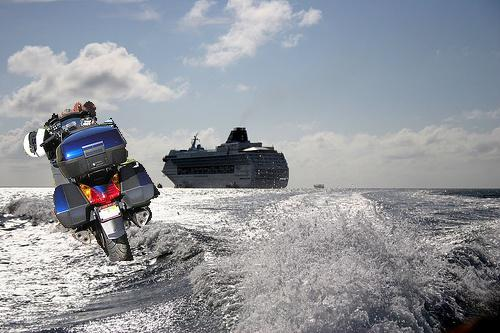tampered: (24, 102, 160, 261)
